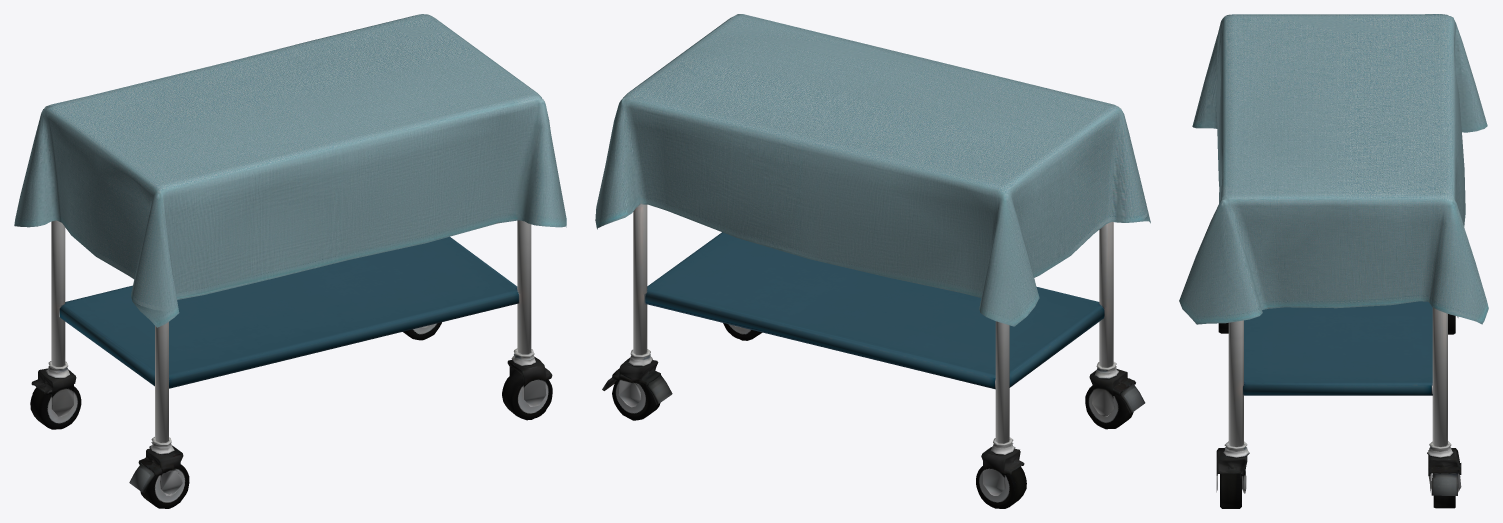
The model's file is small_backtable.glb.
The picture shows the model from 3 angles, left to right: view 1: azimuth 30°, elevation 25°; view 2: azimuth 150°, elevation 25°; view 3: azimuth 270°, elevation 25°; orthographic projection.
Visible parts, largest first — view 1: tripo_node_2c0faceb-5638-4dba-9357-d01f81d38abf; view 2: tripo_node_2c0faceb-5638-4dba-9357-d01f81d38abf; view 3: tripo_node_2c0faceb-5638-4dba-9357-d01f81d38abf.
Boxes of the visible parts, x1,y1,x2,y2 form: tripo_node_2c0faceb-5638-4dba-9357-d01f81d38abf: (14, 14, 566, 508); tripo_node_2c0faceb-5638-4dba-9357-d01f81d38abf: (595, 14, 1150, 508); tripo_node_2c0faceb-5638-4dba-9357-d01f81d38abf: (1179, 14, 1488, 508).
Bounding box in the file's own units: 1.2 × 0.86 × 0.76.
Materials: 1 (1 with a texture image).
